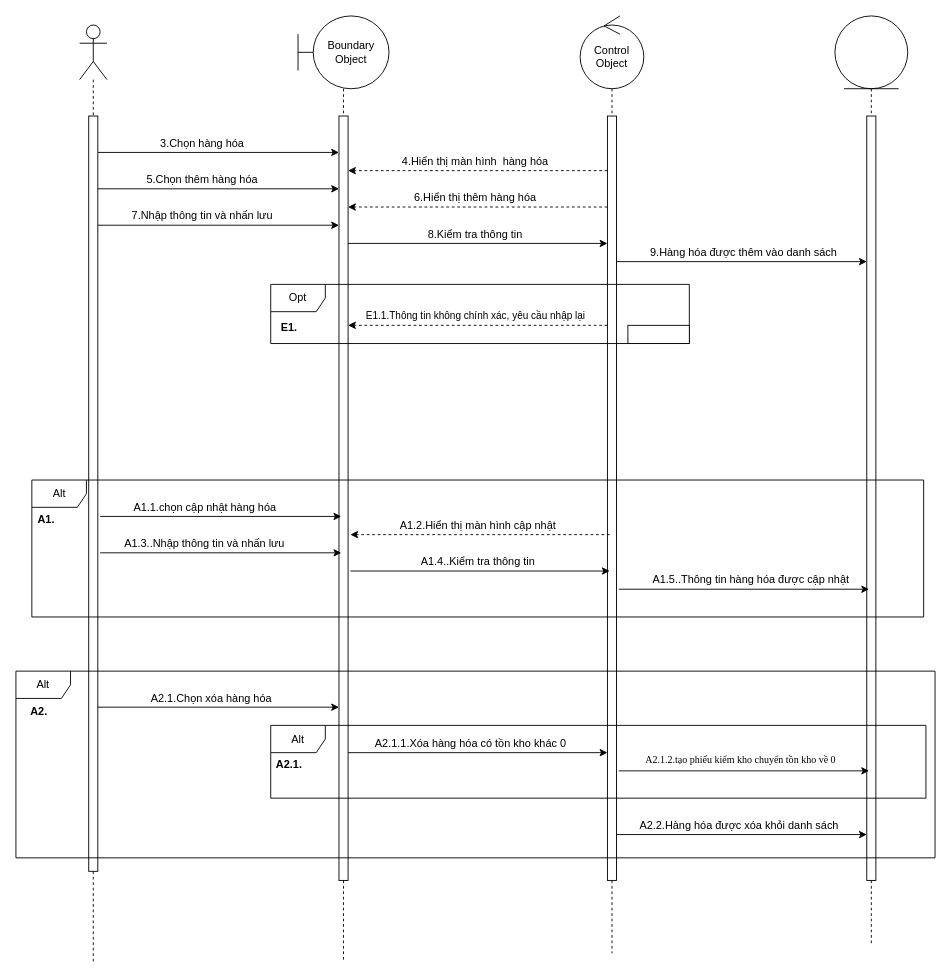
Some shapes in this 951 by 979 pixel diagram are drawn without their labels. The centre of each missing label's shape, as x and y in pixels:
"Actor" belongs at [93,52].
"Entity Object" belongs at [871,52].
"Quay lại 6." belongs at [658,334].
